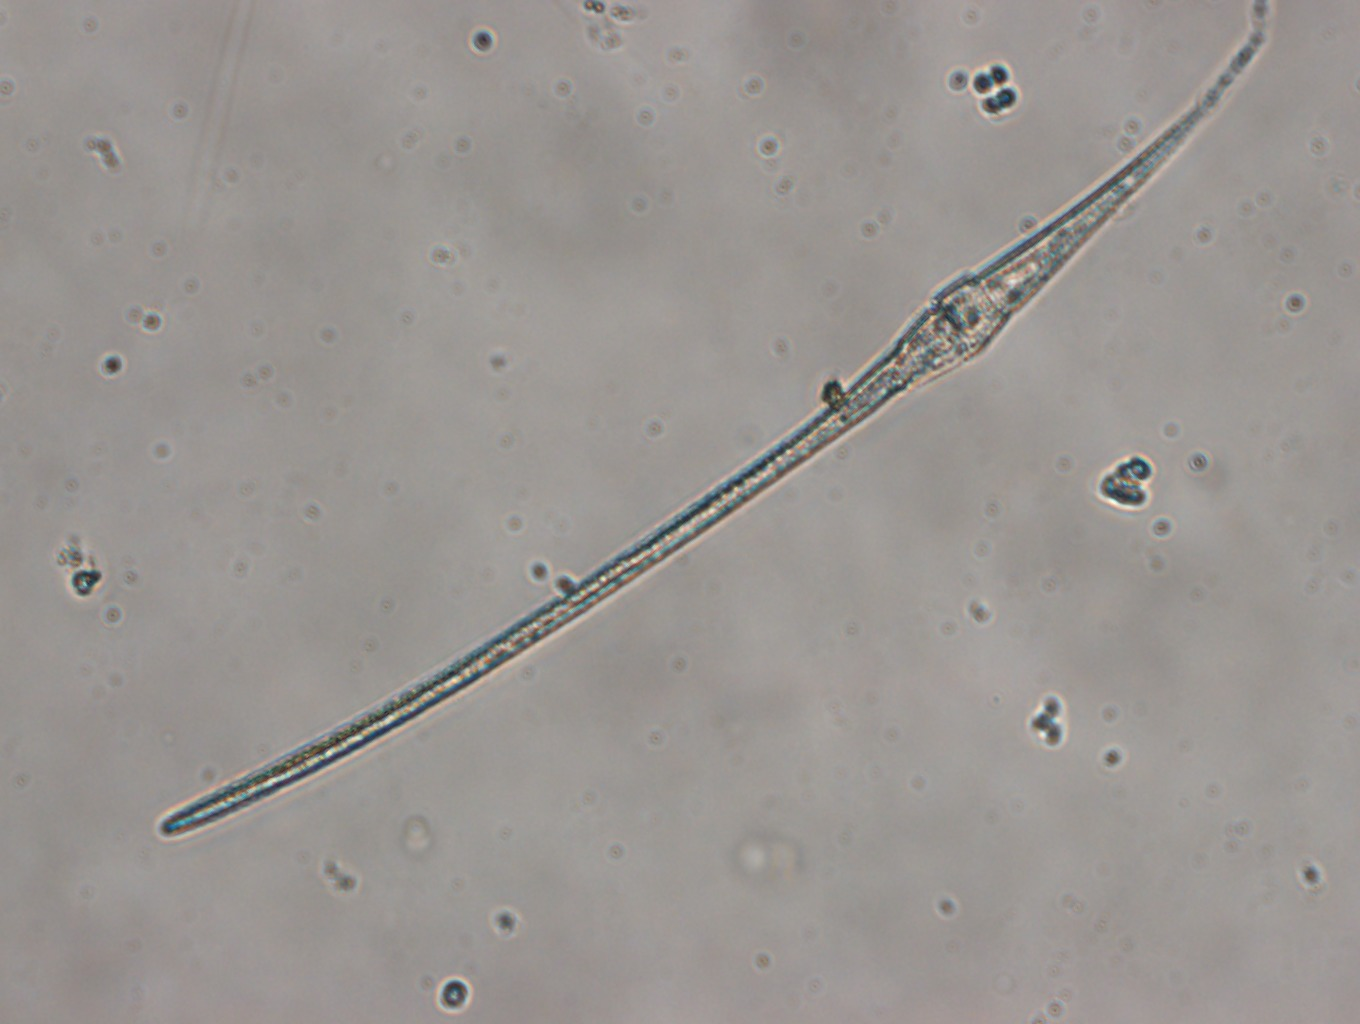ceratium fusus: (155, 31, 1269, 837)
